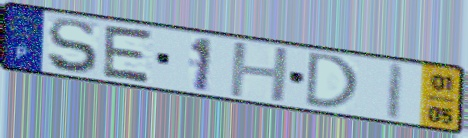1: (188, 36, 215, 95)
D: (303, 50, 362, 111)
E: (99, 23, 157, 86)
H: (227, 41, 293, 104)
I: (382, 60, 407, 123)
S: (46, 16, 101, 76)
